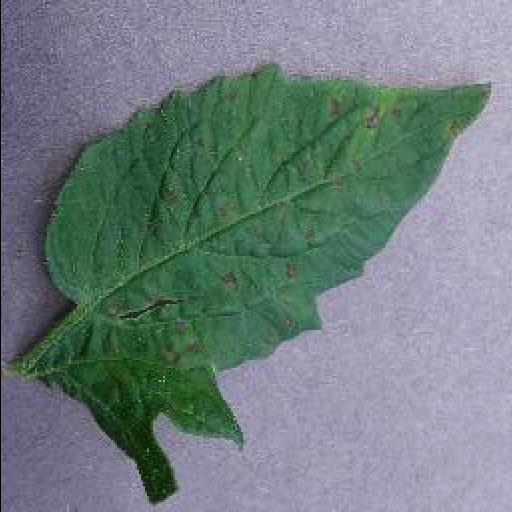disease_tomato: (44, 68, 496, 504)
